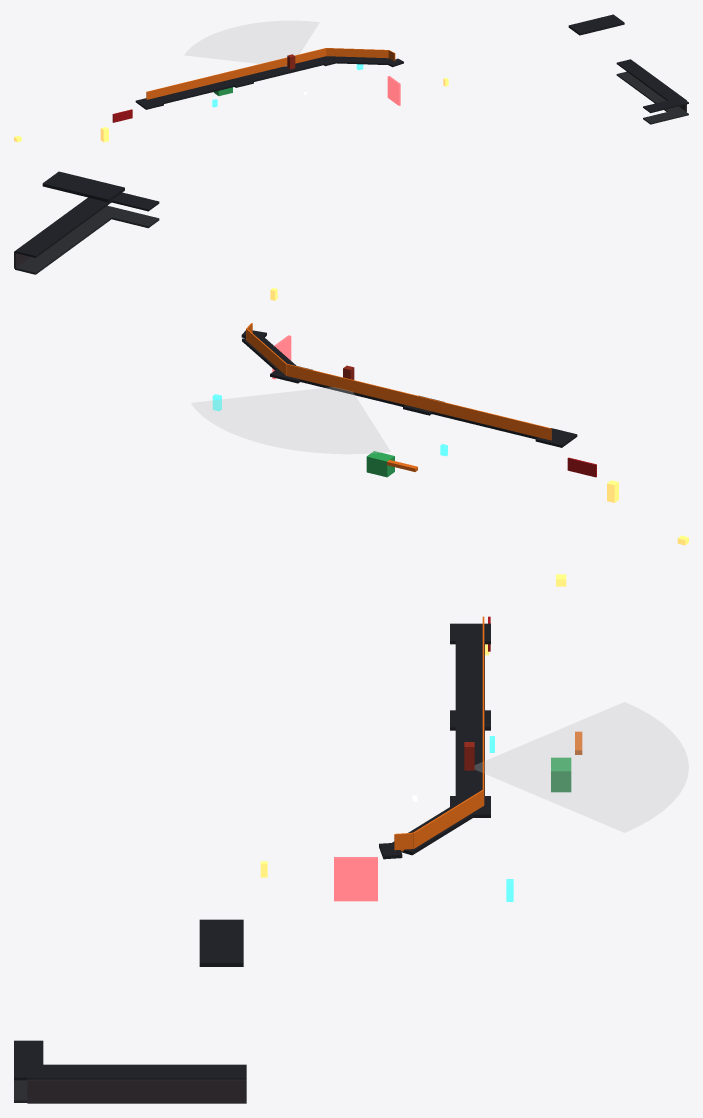
Rendered from EastMicroHub.glb.
3 views of the same model, one above another, from view 1: azimuth 30°, elevation 25°; view 2: azimuth 150°, elevation 25°; view 3: azimuth 270°, elevation 25° (orthographic). The views are drawn at different scales.
Parts seen in each view (by area): view 1: _MeshInstance3D_55, CrouchRoofNorth, Deck2, Deck4, Deck, Deck3, RoofObservationLedge, Deck6, CrouchFloorNorth, Deck5, CrouchTurnFloor, _MeshInstance3D_14 (+1 smaller); view 2: _MeshInstance3D_55, CrouchRoofNorth, Deck2, Deck4, CrouchFloorNorth, RoofObservationLedge, CrouchTurnFloor, Generator; view 3: _MeshInstance3D_55, CrouchOuterWall, CrouchRoofNorth, Deck, RoofObservationLedge, Deck3, _MeshInstance3D_14, Deck6, CrouchTurnRoof.
Part boxes in pixels (bbox=[...]): _MeshInstance3D_55: bbox=[185, 21, 319, 66]; CrouchRoofNorth: bbox=[616, 59, 685, 103]; Deck2: bbox=[146, 70, 236, 99]; Deck4: bbox=[236, 48, 326, 77]; Deck: bbox=[147, 80, 234, 104]; Deck3: bbox=[246, 56, 331, 81]; RoofObservationLedge: bbox=[568, 14, 624, 35]; Deck6: bbox=[326, 48, 388, 58]; CrouchFloorNorth: bbox=[616, 71, 686, 111]; Deck5: bbox=[329, 56, 392, 65]; CrouchTurnFloor: bbox=[643, 108, 688, 124]; _MeshInstance3D_14: bbox=[387, 76, 400, 105]; _MeshInstance3D_55: bbox=[191, 387, 390, 453]; CrouchRoofNorth: bbox=[15, 197, 111, 257]; Deck2: bbox=[418, 396, 551, 440]; Deck4: bbox=[286, 364, 418, 407]; CrouchFloorNorth: bbox=[15, 209, 116, 274]; RoofObservationLedge: bbox=[42, 171, 124, 202]; CrouchTurnFloor: bbox=[97, 205, 159, 228]; Generator: bbox=[366, 451, 394, 477]; _MeshInstance3D_55: bbox=[475, 702, 688, 832]; CrouchOuterWall: bbox=[27, 1079, 246, 1102]; CrouchRoofNorth: bbox=[27, 1064, 246, 1079]; Deck: bbox=[455, 632, 484, 718]; RoofObservationLedge: bbox=[199, 919, 243, 966]; Deck3: bbox=[455, 718, 484, 805]; _MeshInstance3D_14: bbox=[334, 857, 377, 901]; Deck6: bbox=[413, 789, 484, 848]; CrouchTurnRoof: bbox=[14, 1040, 43, 1080].
Size of the model in its own units: 83.6 by 9.3 by 46.14.
